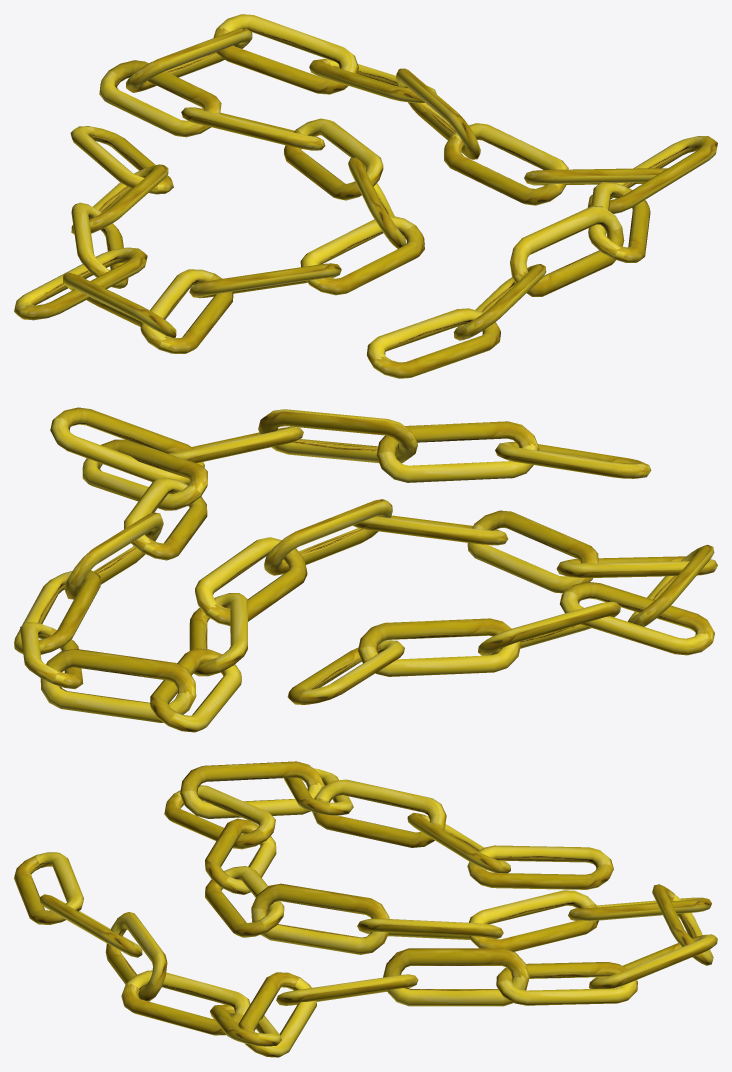
The model's file is 059_chain.dae.
3 renders of one model, top to bottom at view 1: azimuth 30°, elevation 25°; view 2: azimuth 150°, elevation 25°; view 3: azimuth 270°, elevation 25°, orthographic. The views are drawn at different scales.
Parts seen in each view (by area): view 1: 059_chain; view 2: 059_chain; view 3: 059_chain.
Boxes of the visible parts, x1,y1,x2,y2 form: 059_chain: [14, 14, 717, 378]; 059_chain: [14, 407, 717, 732]; 059_chain: [14, 761, 717, 1057].
Size of the model in its own units: 0.3102 by 0.3069 by 0.0252.
1 material, 1 textured.
